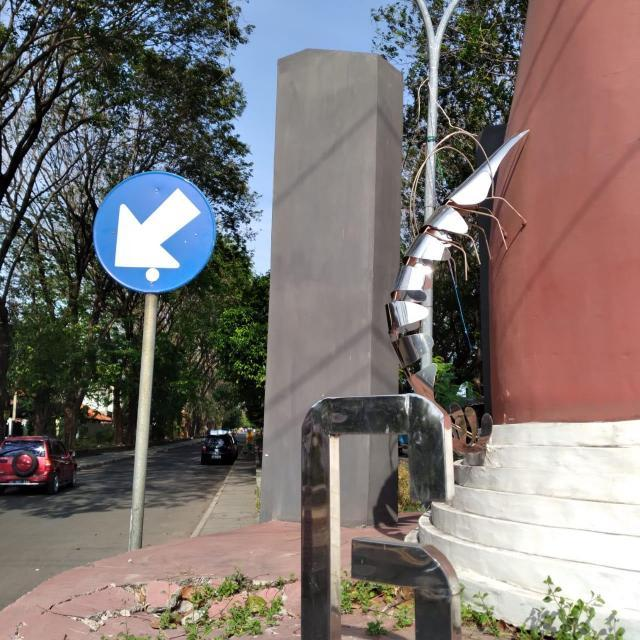traffic sign: (92, 170, 216, 295)
